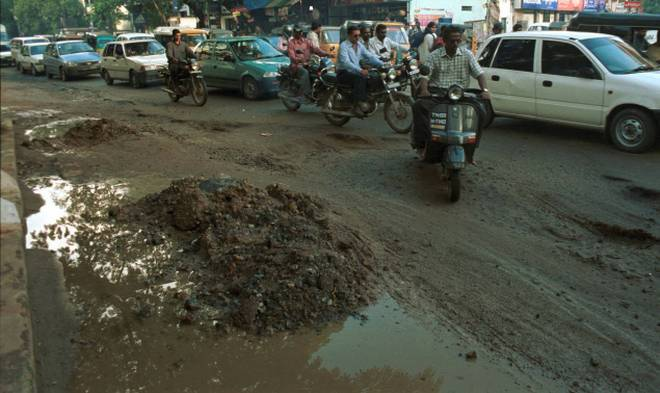pothole: (588, 211, 656, 256), (618, 171, 656, 208)
